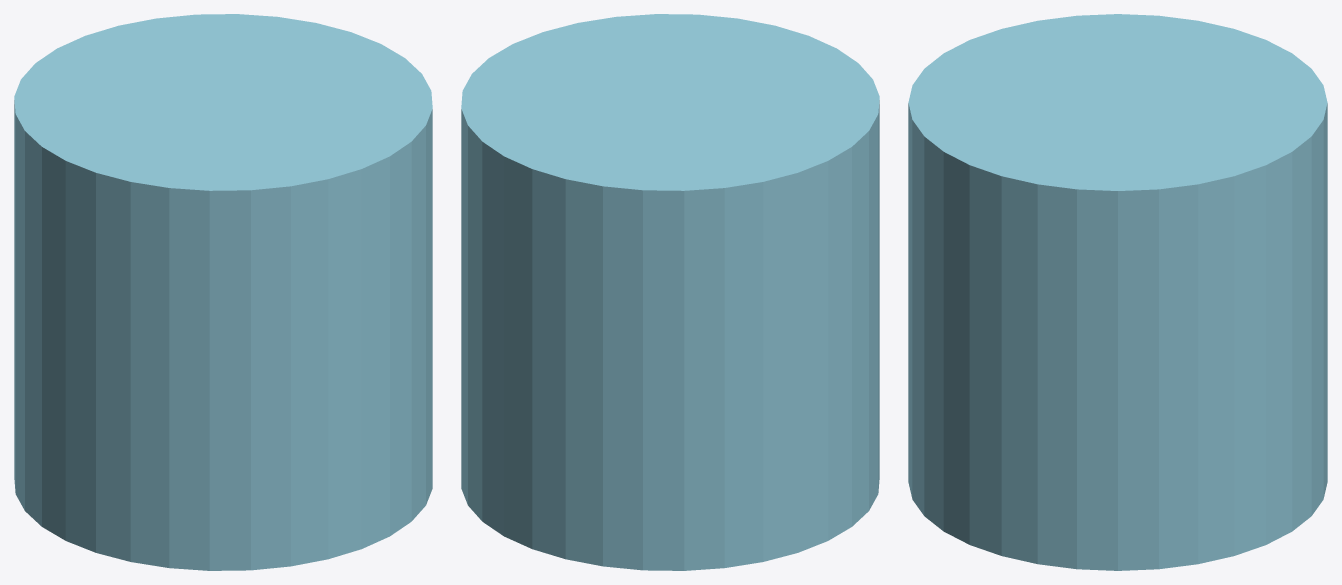
Rendered from davidConeA1.gltf.
3 views of the same model, side by side, from view 1: azimuth 30°, elevation 25°; view 2: azimuth 150°, elevation 25°; view 3: azimuth 270°, elevation 25° (orthographic).
Visible parts, largest first — view 1: davidConeA1; view 2: davidConeA1; view 3: davidConeA1.
Part boxes in pixels (box(x1,y1,x2,y2)): davidConeA1: box(14, 14, 432, 570); davidConeA1: box(461, 14, 879, 570); davidConeA1: box(908, 14, 1327, 570).
Size of the model in its own units: 0.3711 by 0.3711 by 0.3711.
